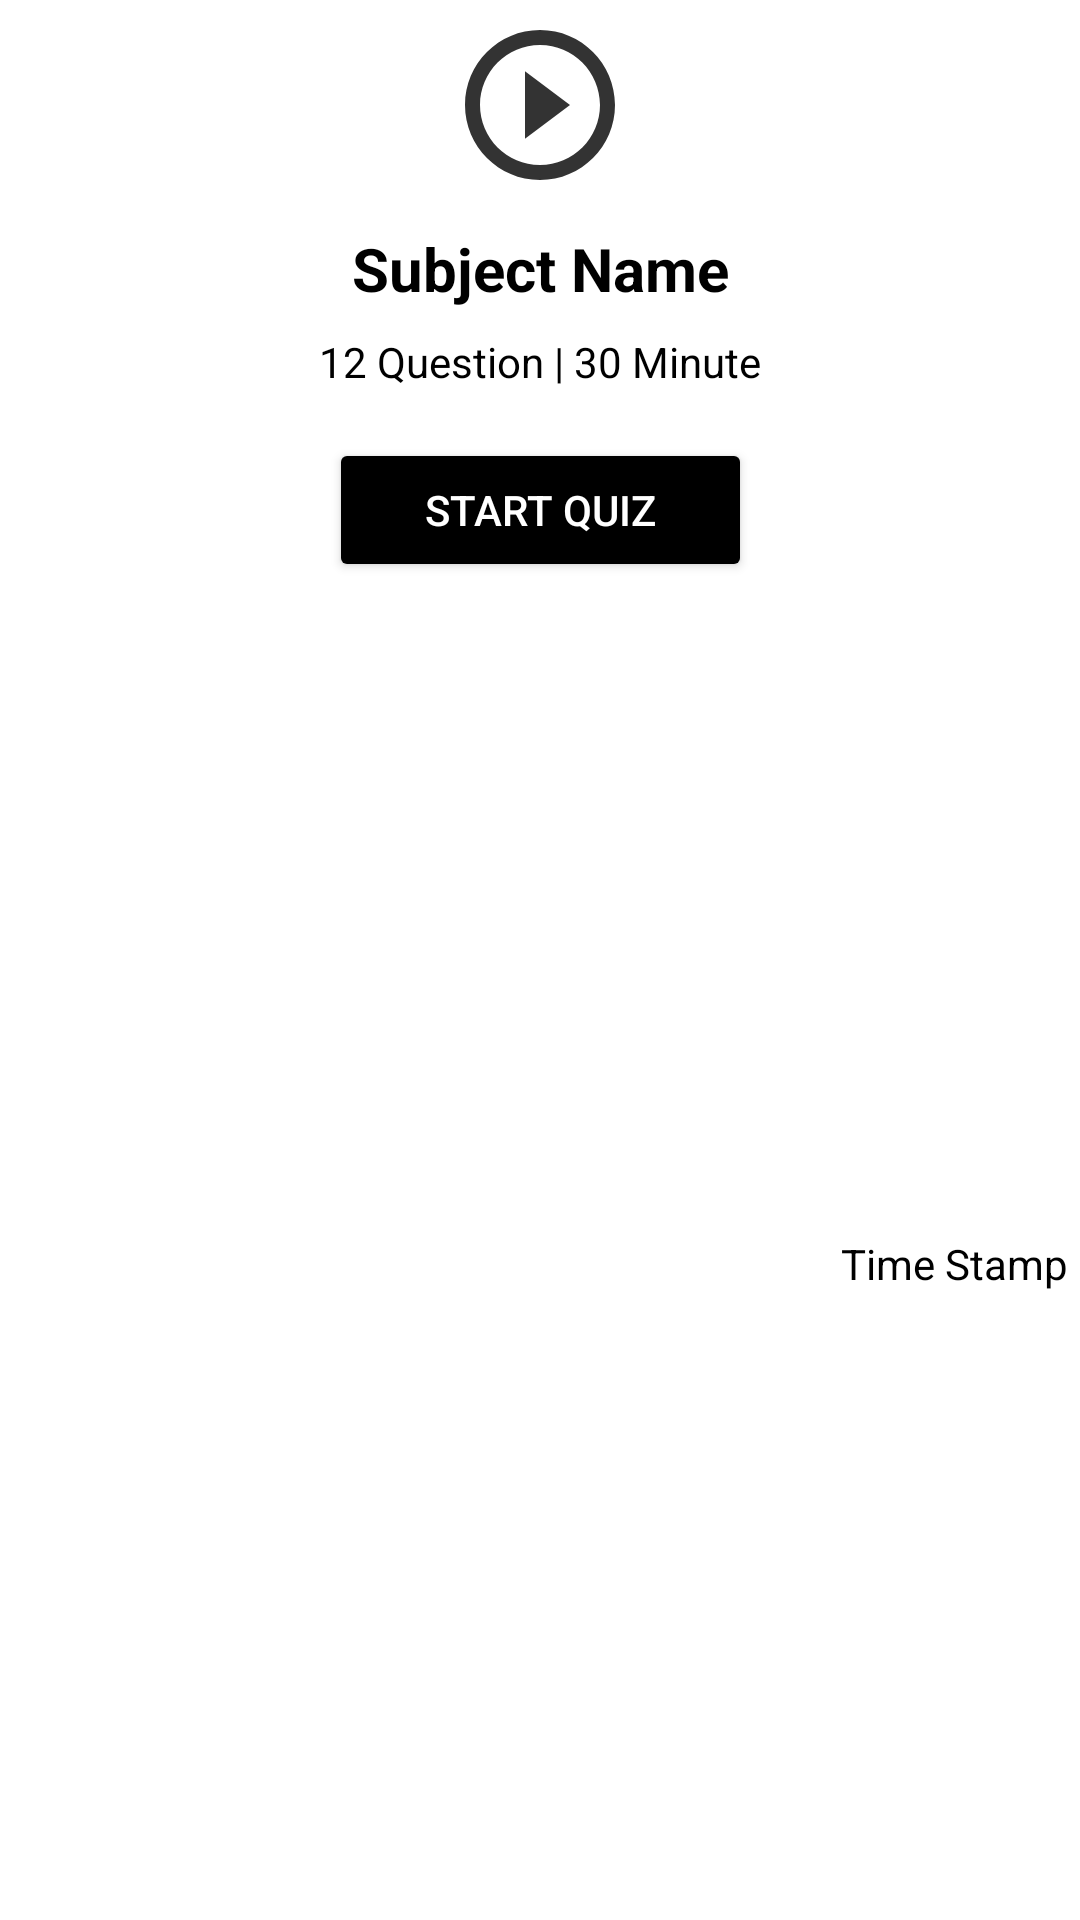

Named icons in this screenshot (1080*1920) and their centers, (x,y):
play: (540,105)
